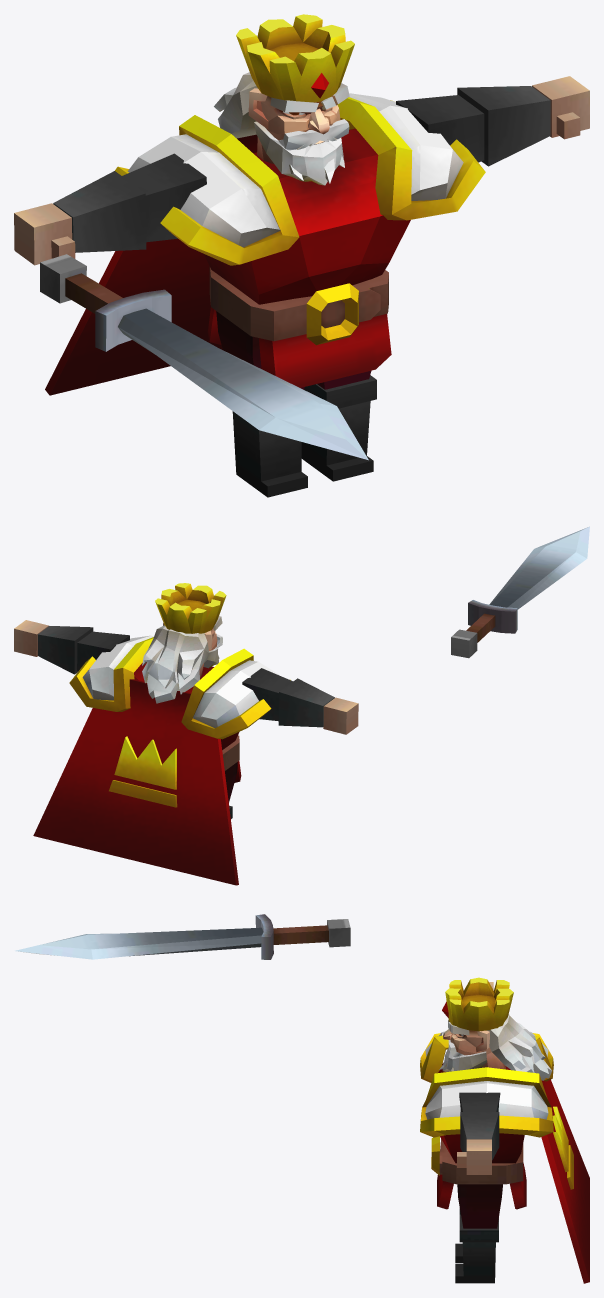
The model's file is KingSeparation1.fbx.
The picture shows the model from 3 angles, top to bottom: view 1: azimuth 30°, elevation 25°; view 2: azimuth 150°, elevation 25°; view 3: azimuth 270°, elevation 25°; orthographic projection. The views are drawn at different scales.
Visible parts, largest first — view 1: Body, Sword, Head, RightForeArm, LeftForArm, RightLowLeg, LeftLowLeg, RightUpArm, LeftUpArm, RightHand, LeftHand, RightUpLeg; view 2: Body, Head, Sword, RightForeArm, LeftForArm, RightUpArm, RightHand, LeftUpArm, LeftHand; view 3: Body, Head, Sword, LeftLowLeg, LeftUpLeg, LeftForArm, LeftHand, LeftUpArm.
Part boxes in pixels (bbox=[...]): Body: bbox=[45, 93, 485, 395]; Sword: bbox=[40, 254, 368, 460]; Head: bbox=[214, 14, 354, 185]; RightForeArm: bbox=[53, 171, 146, 252]; LeftForArm: bbox=[457, 86, 550, 166]; RightLowLeg: bbox=[232, 411, 307, 497]; LeftLowLeg: bbox=[301, 375, 376, 481]; RightUpArm: bbox=[122, 153, 206, 242]; LeftUpArm: bbox=[396, 95, 484, 162]; RightHand: bbox=[14, 203, 75, 265]; LeftHand: bbox=[532, 76, 589, 139]; RightUpLeg: bbox=[216, 311, 304, 389]; Body: bbox=[33, 635, 290, 885]; Head: bbox=[142, 583, 226, 703]; Sword: bbox=[451, 526, 589, 658]; RightForeArm: bbox=[278, 678, 334, 727]; LeftForArm: bbox=[37, 626, 93, 674]; RightUpArm: bbox=[242, 668, 292, 721]; RightHand: bbox=[323, 697, 358, 734]; LeftUpArm: bbox=[77, 631, 129, 671]; LeftHand: bbox=[14, 620, 48, 656]; Body: bbox=[420, 1031, 589, 1283]; Head: bbox=[439, 977, 551, 1080]; Sword: bbox=[15, 914, 350, 959]; LeftLowLeg: bbox=[455, 1214, 498, 1283]; LeftUpLeg: bbox=[457, 1184, 502, 1228]; LeftForArm: bbox=[460, 1112, 499, 1160]; LeftHand: bbox=[457, 1139, 491, 1174]; LeftUpArm: bbox=[459, 1092, 500, 1111].
Size of the model in its own units: 2647 by 1676 by 3198.
